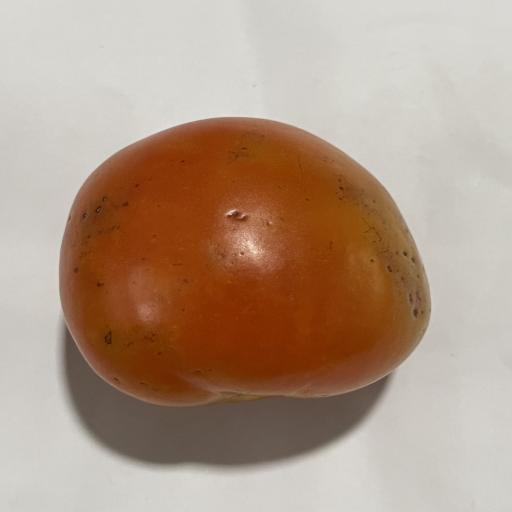ripe: (60, 118, 430, 406)
